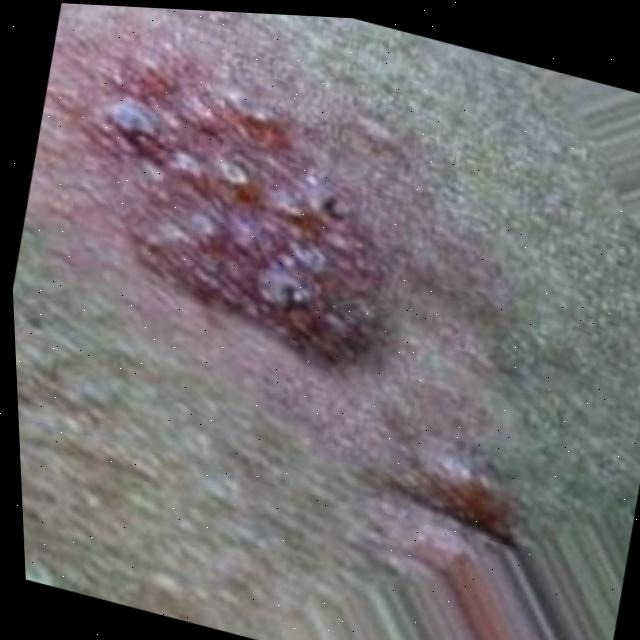Shingles: (70, 55, 408, 361)
